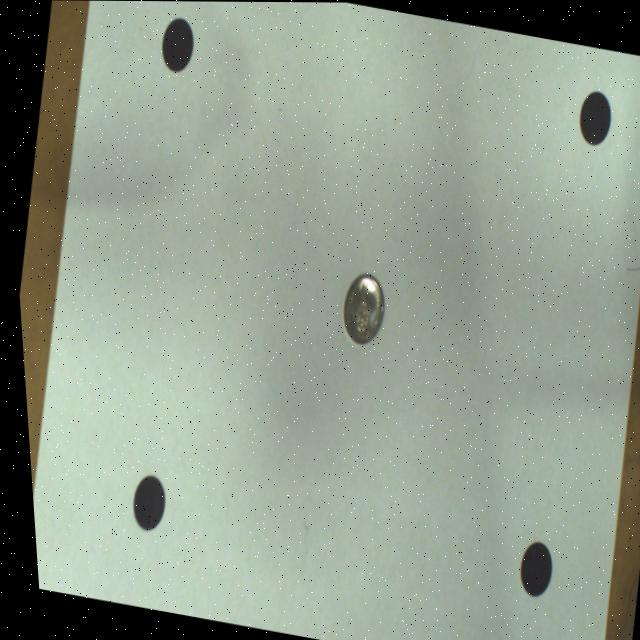space: (125, 474, 158, 531), (577, 89, 609, 144), (512, 541, 544, 596), (161, 17, 193, 71)
tail1bath: (339, 274, 380, 343)
